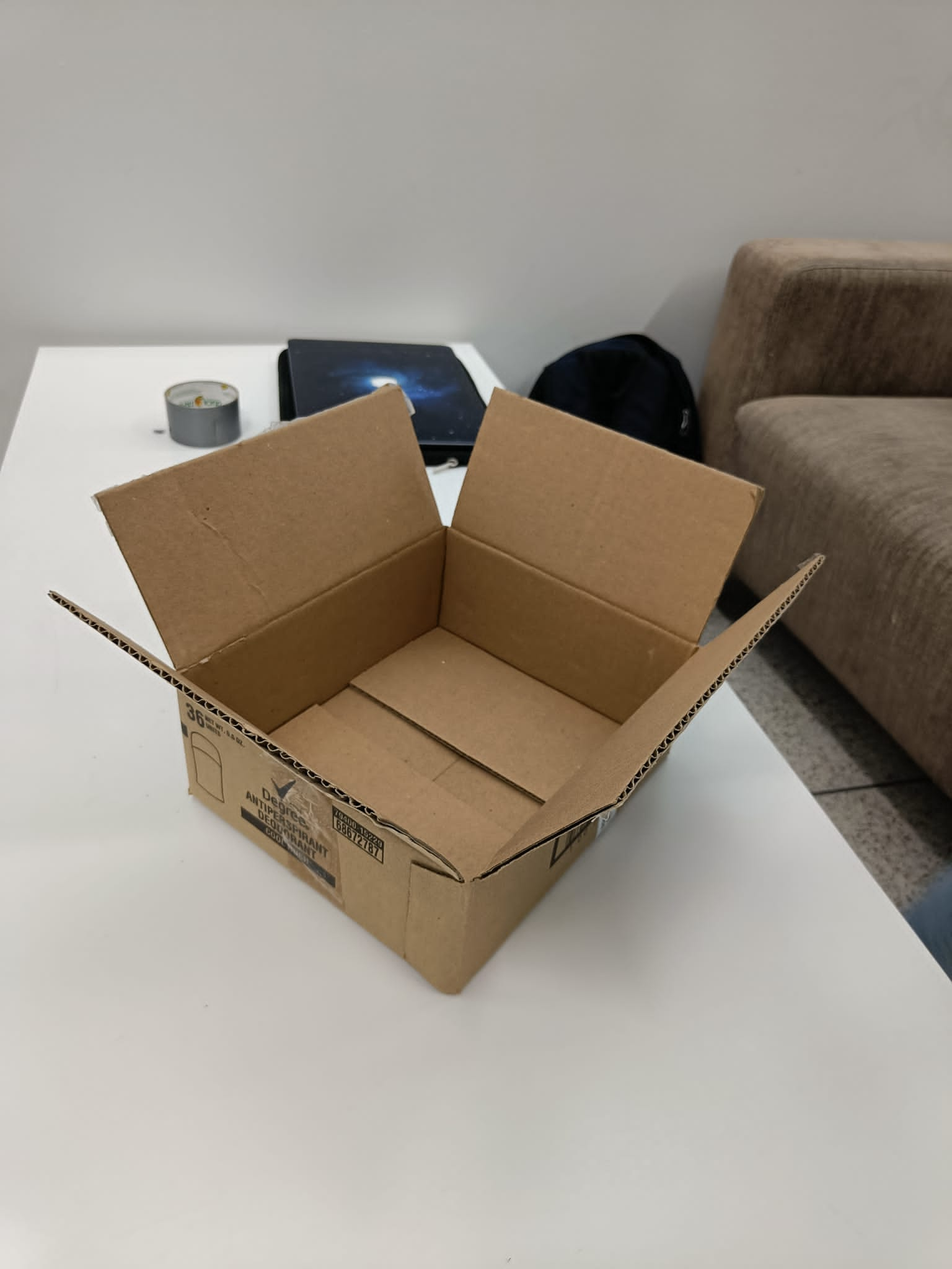box: (47, 384, 822, 999)
crushed: (51, 385, 820, 885)
